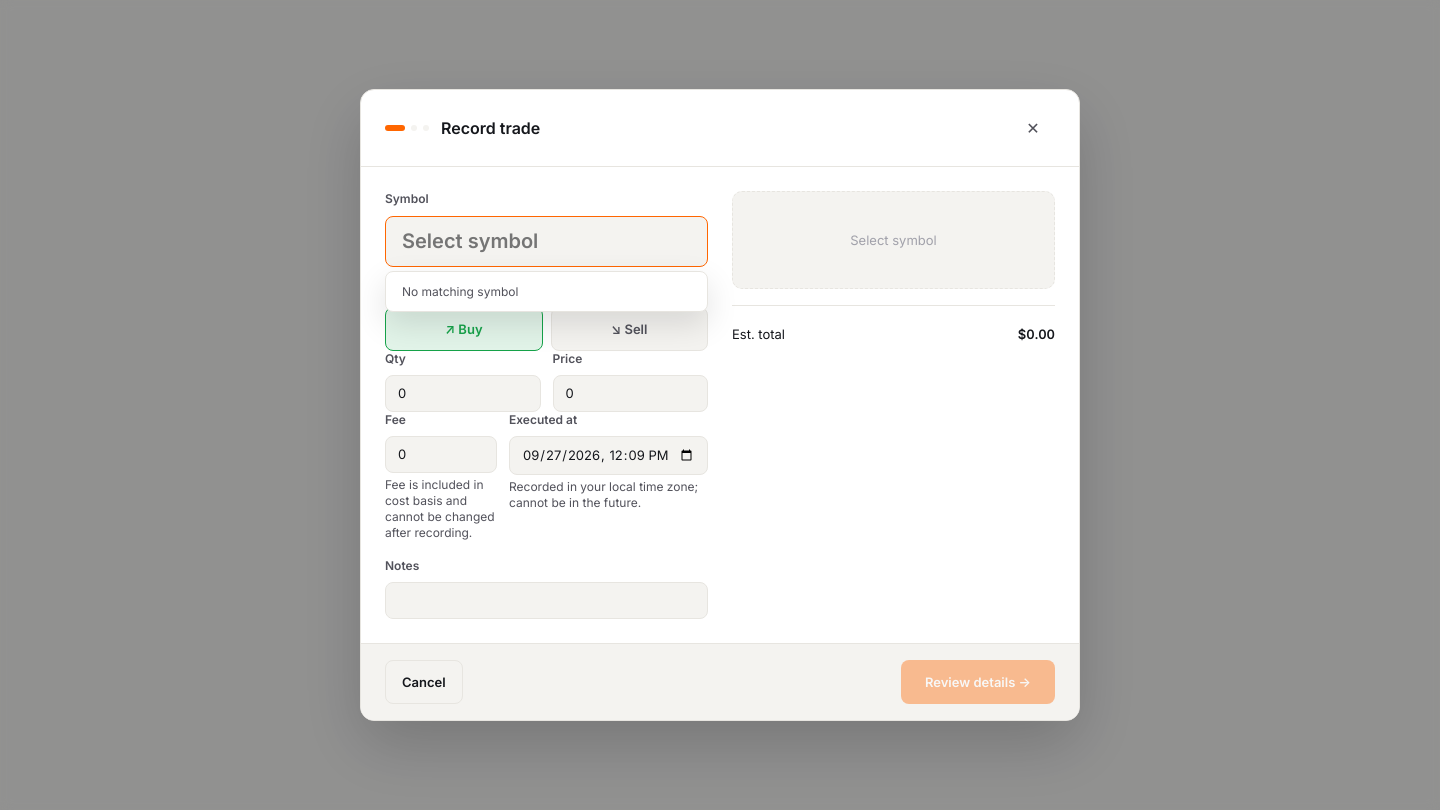
Test: OrderTicket typeahead — 七態(04-10 / D-01 / UI-SPEC §Interaction Contract 2) › Test 4(loading):debounce 觸發後、回應前顯示 3 條骨架列與可讀文字
In the dropdown labelled "Symbol": (546, 241) x1=385 y1=216 x2=708 y2=267, type "AA"
Wait 250 ms
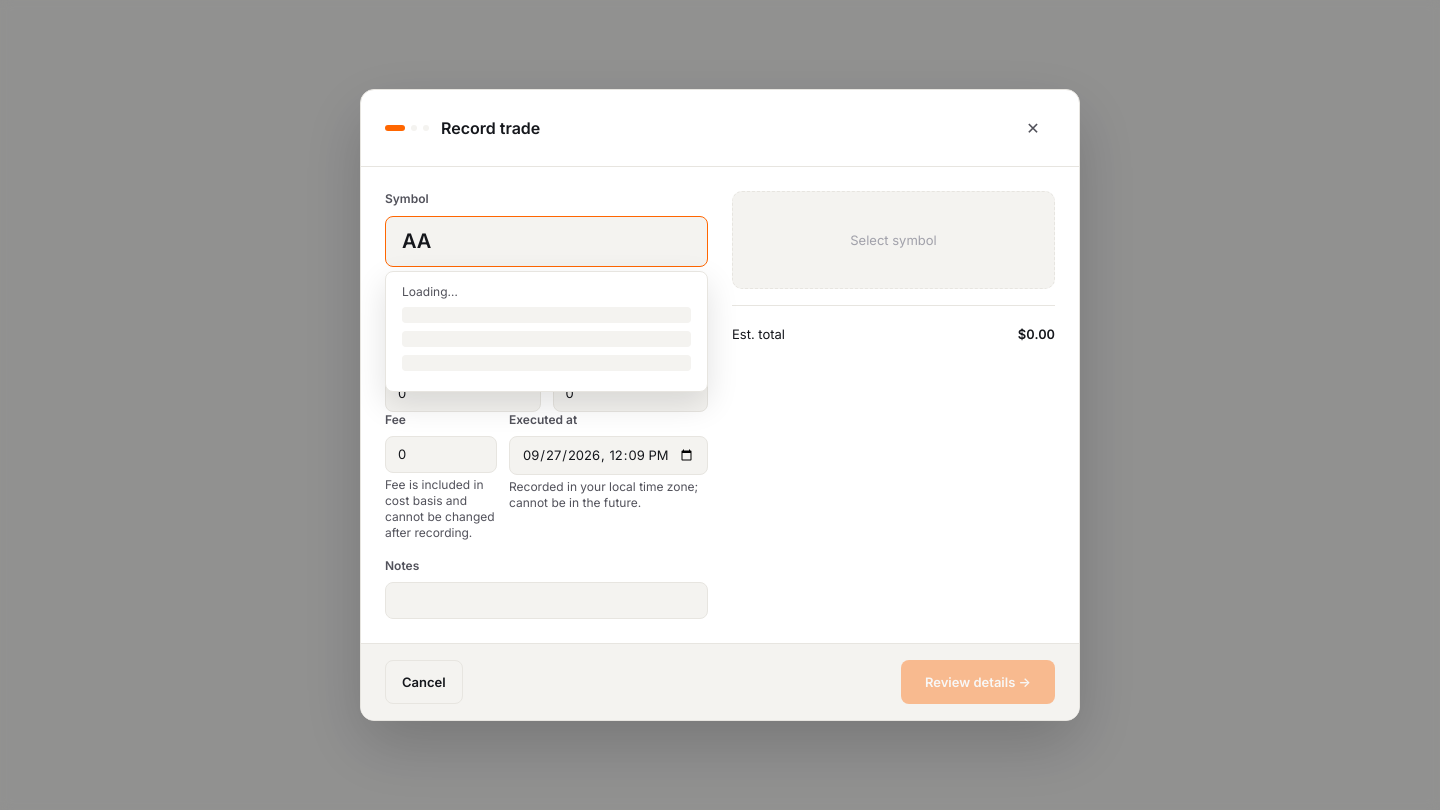
Now the element showing "Loading…" is shown, box x1=386 y1=272 x2=707 y2=391
